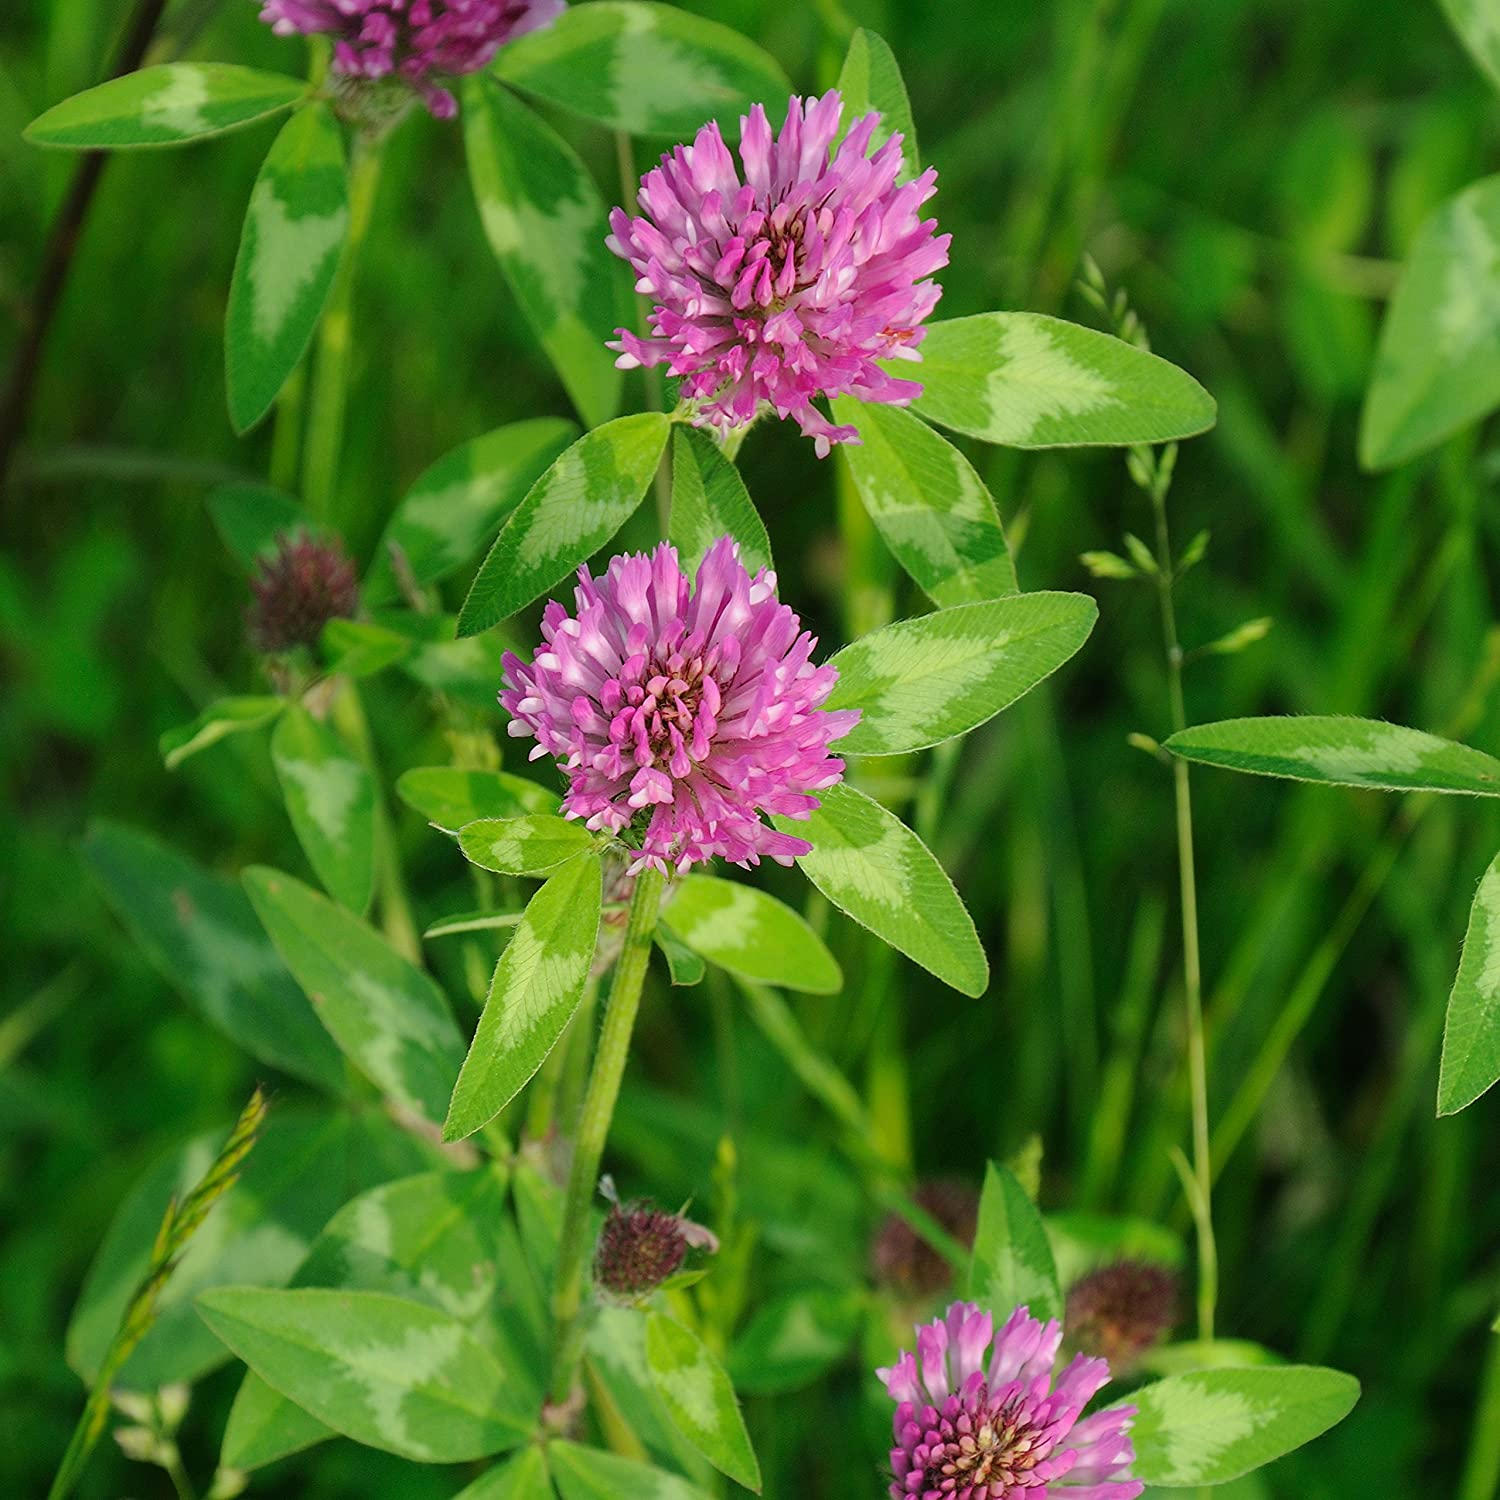clover blossom purple: (492, 532, 863, 919), (592, 88, 959, 468), (874, 1295, 1146, 1500), (260, 5, 567, 124)
